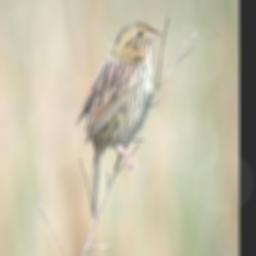Sparrow: (76, 20, 162, 218)
